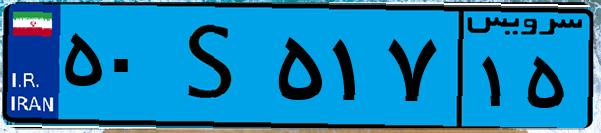0: (110, 28, 158, 98)
1: (330, 28, 385, 110), (475, 38, 525, 113)
5: (270, 28, 330, 110), (57, 26, 110, 100), (525, 38, 570, 115)
7: (385, 28, 445, 110)
S: (158, 12, 270, 120)
